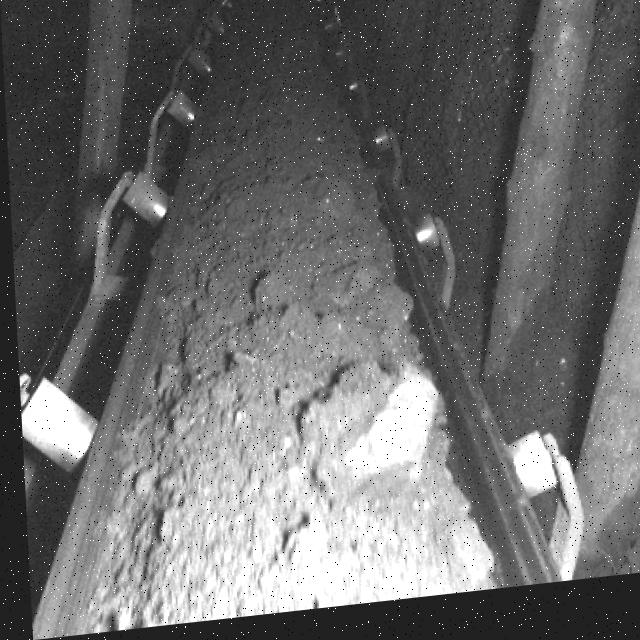large_sized_coal: (290, 370, 433, 505), (311, 273, 409, 342)
